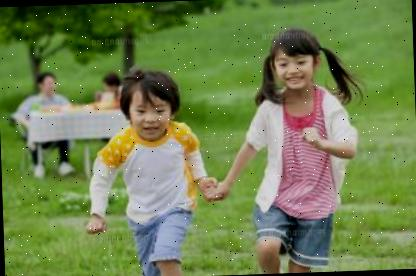person: (214, 21, 366, 275), (75, 58, 217, 276)
